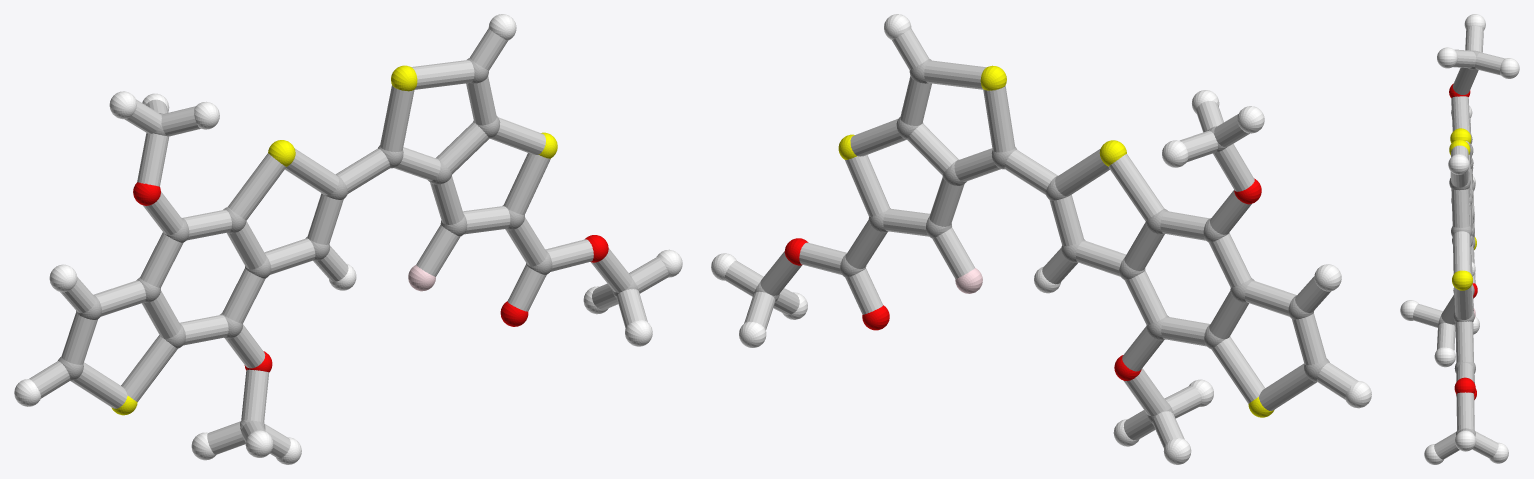
File: color.glb
The picture shows the model from 3 angles, left to right: view 1: azimuth 30°, elevation 25°; view 2: azimuth 150°, elevation 25°; view 3: azimuth 270°, elevation 25°; orthographic projection. The views are drawn at different scales.
Visible parts, largest first — view 1: grp15205, grp8689, grp1, grp7241, grp13395; view 2: grp15205, grp8689, grp1, grp7241, grp13395; view 3: grp15205, grp8689, grp1, grp7241, grp13395.
Boxes of the visible parts, bbox=[...] form: grp15205: bbox=[29, 28, 668, 458]; grp8689: bbox=[14, 14, 682, 464]; grp1: bbox=[58, 58, 638, 431]; grp7241: bbox=[111, 65, 557, 415]; grp13395: bbox=[133, 182, 608, 372]; grp15205: bbox=[724, 29, 1357, 448]; grp8689: bbox=[711, 14, 1371, 464]; grp1: bbox=[754, 58, 1329, 423]; grp7241: bbox=[838, 65, 1274, 417]; grp13395: bbox=[784, 178, 1261, 380]; grp15205: bbox=[1412, 26, 1504, 459]; grp8689: bbox=[1400, 14, 1519, 464]; grp1: bbox=[1438, 50, 1480, 436]; grp7241: bbox=[1449, 128, 1476, 290]; grp13395: bbox=[1449, 83, 1477, 399].
Size of the model in its own units: 16.48 by 9.28 by 3.37.
